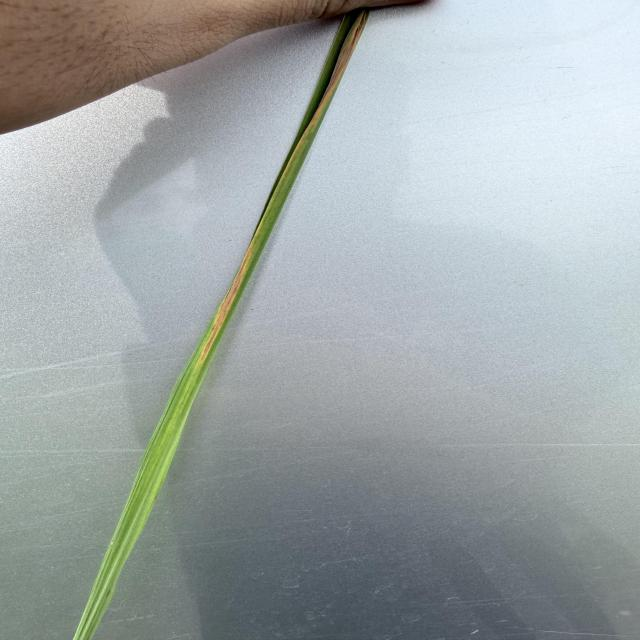Chay bia la: (286, 13, 368, 157), (201, 242, 256, 360)
